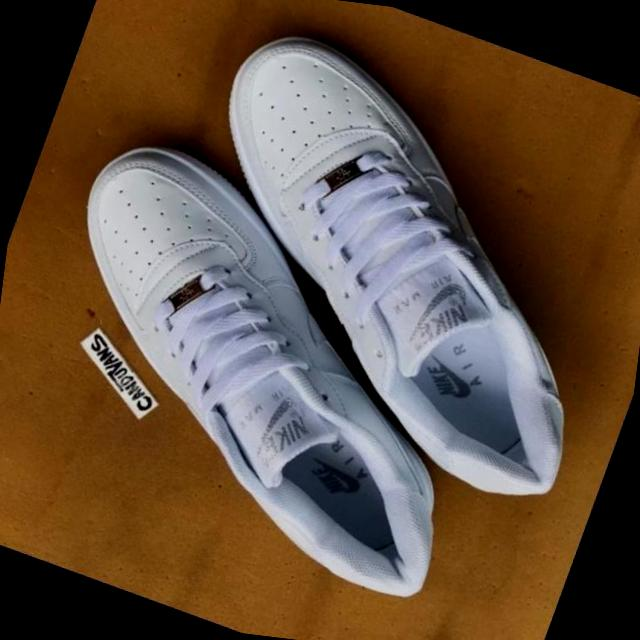nike_fake_airforce: (0, 113, 562, 619), (118, 5, 640, 524)
